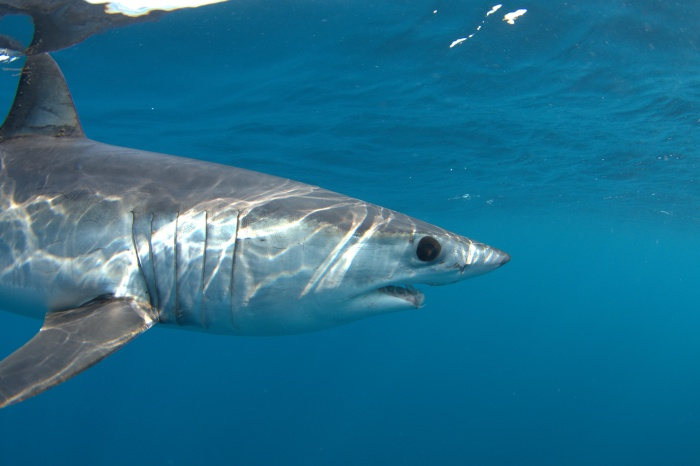Mako: (1, 50, 520, 416)
